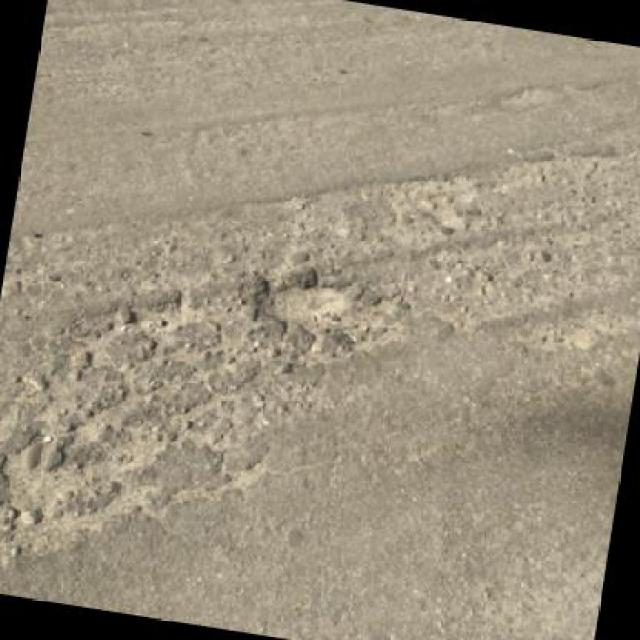pothole1: (251, 267, 360, 331)
